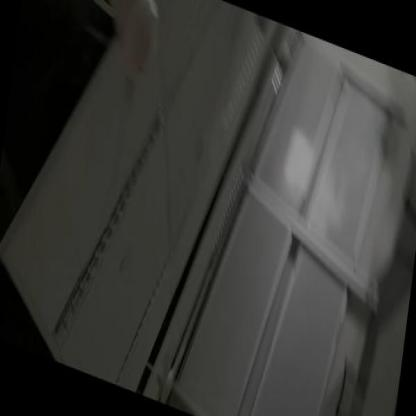light_off: (45, 65, 172, 375)
